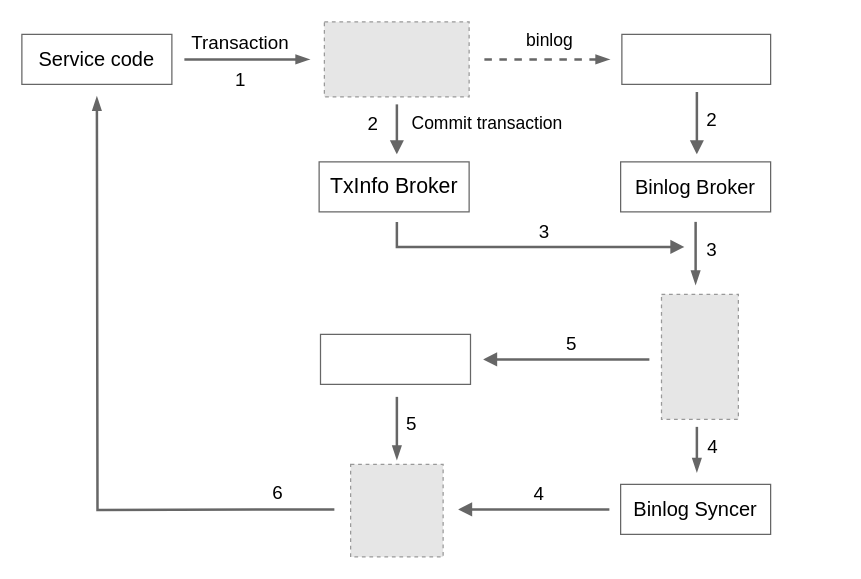
Some shapes in this 861 by 579 pixel diagram are drawn without their labels. Grey dashed boxes stand in for pictures. The box of each missing label's shape, as (x1, y1, x2, y2) in pixels:
River/Canal: (621, 33, 771, 84)
TxInfo Syncer: (319, 333, 470, 384)
